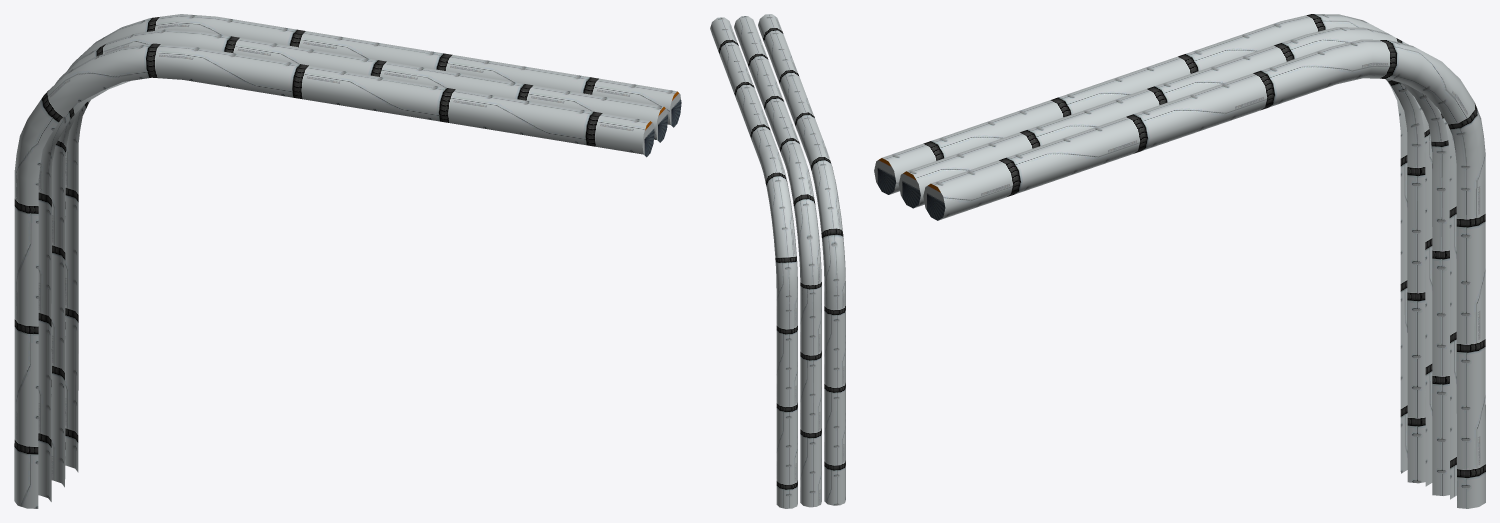
File: stg220_23.obj
3 views of the same model, side by side, from view 1: azimuth 30°, elevation 25°; view 2: azimuth 150°, elevation 25°; view 3: azimuth 270°, elevation 25° (orthographic). The views are drawn at different scales.
Visible parts, largest first — view 1: polygon0, polygon1; view 2: polygon0; view 3: polygon0, polygon1.
Boxes of the visible parts, x1,y1,x2,y2 form: polygon0: (14,14,676,508); polygon1: (642,91,681,157); polygon0: (710,14,845,508); polygon0: (882,14,1485,508); polygon1: (874,158,945,220).
Bounding box in the file's own units: 407 × 427 × 474.
2 materials, 2 textured.
